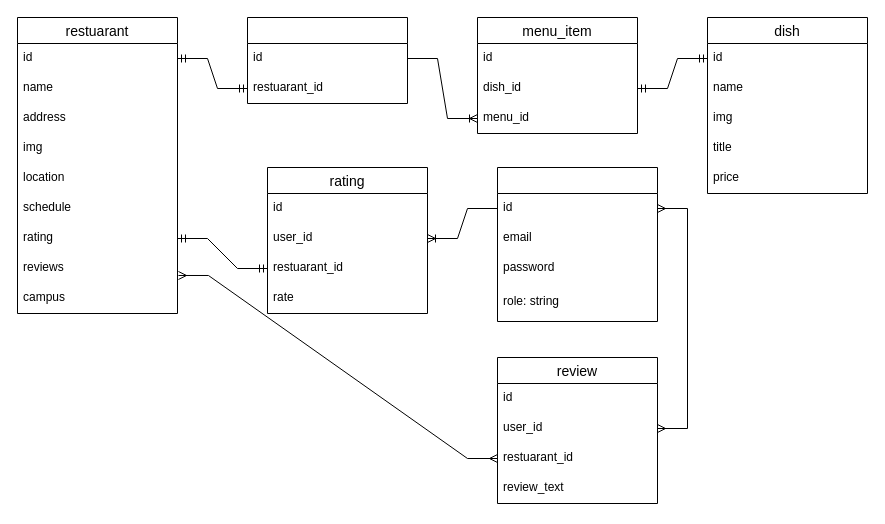
Some shapes in this 885 by 524 pixel diagram are drawn without their labels. Here are the shapes that lost their labels. From the top down, the box of each, then its label:
(246, 16, 408, 104): menu
(496, 166, 658, 322): user
